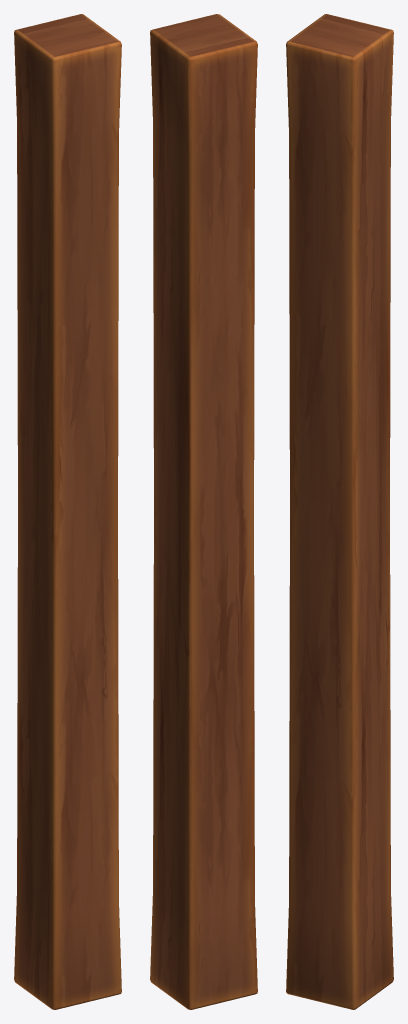
The model's file is PropWoodBeams01_1.FBX.
3 views of the same model, side by side, from view 1: azimuth 30°, elevation 25°; view 2: azimuth 210°, elevation 25°; view 3: azimuth 330°, elevation 25° (orthographic).
Visible parts, largest first — view 1: PropWoodBeams01_1; view 2: PropWoodBeams01_1; view 3: PropWoodBeams01_1.
Boxes of the visible parts, box(x1,y1,x2,y2) form: PropWoodBeams01_1: box(14, 14, 121, 1009); PropWoodBeams01_1: box(150, 14, 257, 1009); PropWoodBeams01_1: box(286, 14, 393, 1009).
Size of what is drawn, in the model's own units: 0.2683 by 3.5 by 0.2683.
